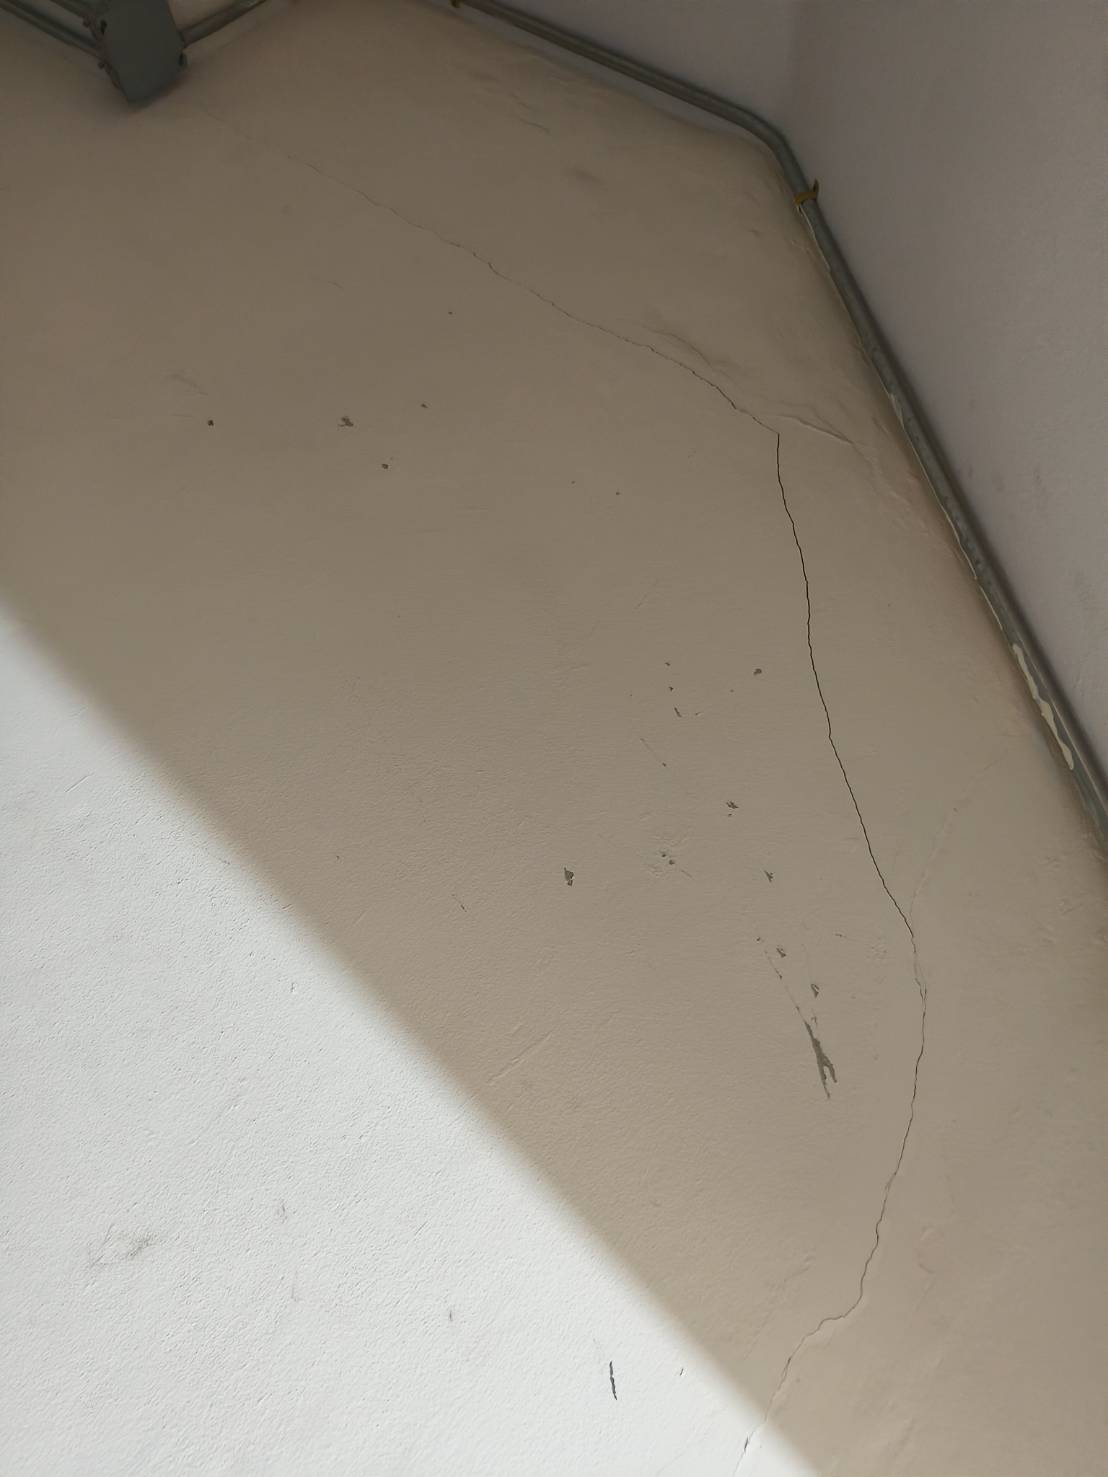Low: (287, 119, 988, 1420)
